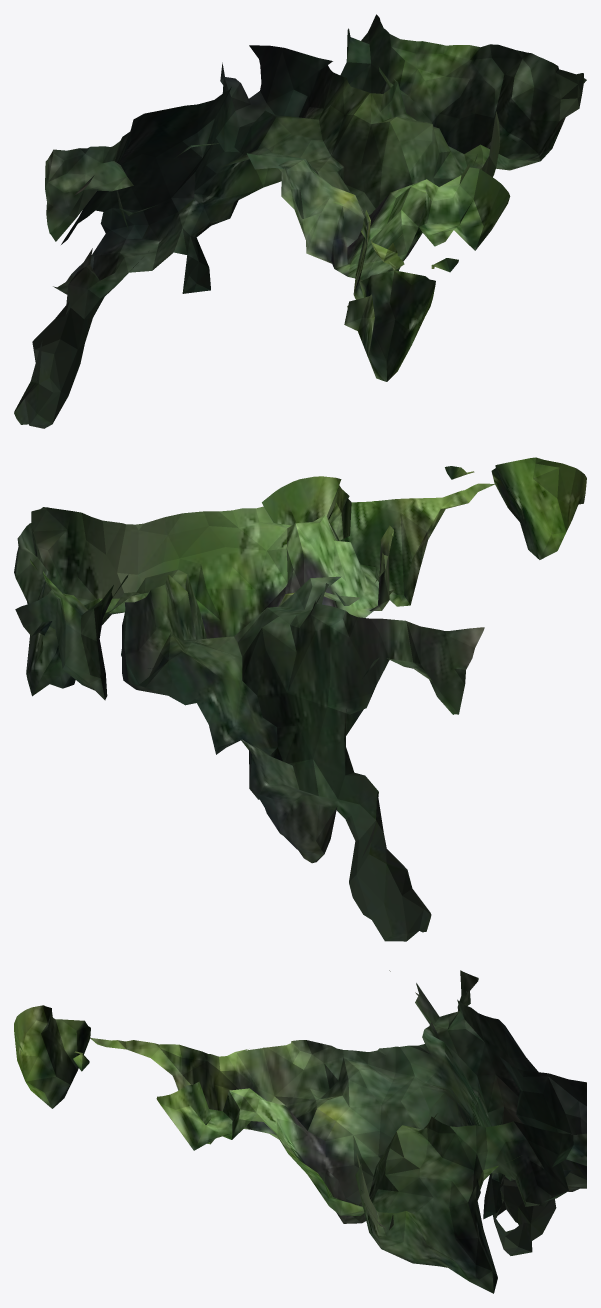
3 renders of one model, top to bottom at view 1: azimuth 30°, elevation 25°; view 2: azimuth 150°, elevation 25°; view 3: azimuth 270°, elevation 25°, orthographic. The views are drawn at different scales.
Bounding box in the file's own units: 21.25 × 11.91 × 22.85.
2 materials, 2 textured.
